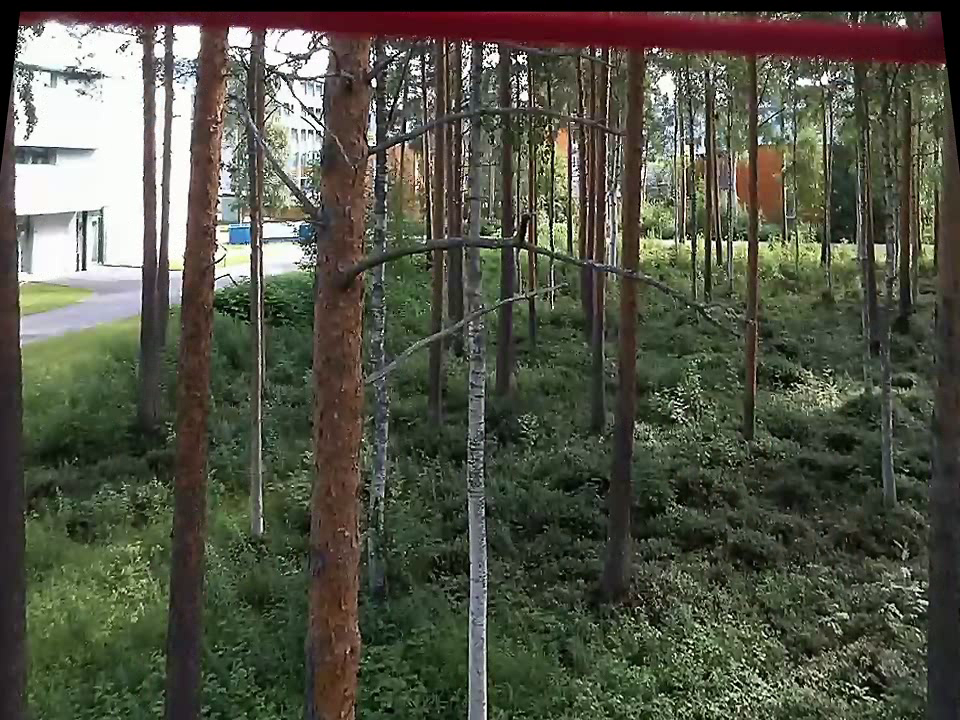branch: (358, 211, 748, 336), (369, 99, 633, 156)
trunk: (150, 32, 236, 709), (302, 44, 365, 711), (456, 64, 502, 712), (598, 65, 647, 584), (244, 65, 276, 538), (738, 64, 773, 438)
